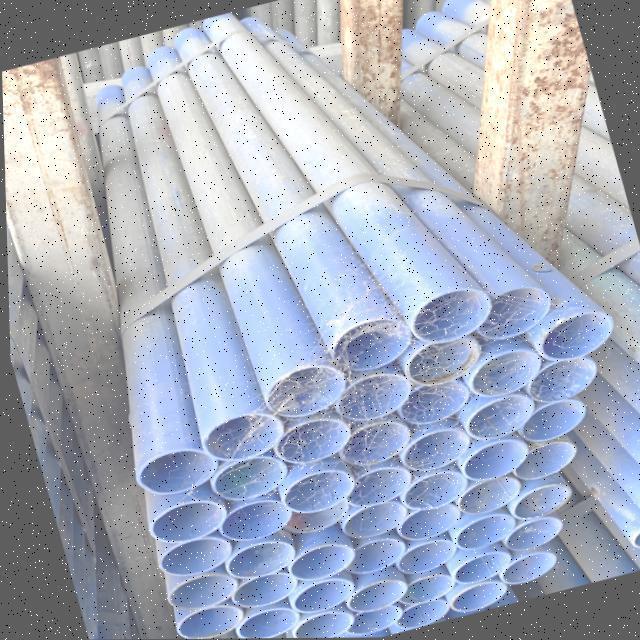pipe: (326, 318, 411, 377), (260, 365, 340, 420), (407, 290, 487, 345), (332, 416, 408, 472), (501, 394, 584, 445), (469, 287, 547, 341), (198, 412, 277, 464), (397, 418, 467, 476), (516, 354, 594, 406), (384, 376, 468, 424), (333, 371, 411, 422), (401, 337, 477, 389), (207, 455, 283, 506), (534, 310, 608, 362), (131, 448, 214, 494), (466, 347, 538, 400), (214, 492, 290, 542), (141, 498, 222, 544), (149, 533, 230, 579), (271, 416, 345, 466), (500, 433, 575, 482), (458, 393, 532, 442), (453, 436, 524, 485), (339, 457, 408, 507), (278, 466, 349, 514), (328, 534, 404, 577), (219, 570, 302, 609), (335, 498, 407, 542), (394, 465, 464, 510), (216, 538, 292, 579), (448, 474, 518, 518), (495, 513, 560, 560), (387, 503, 463, 541), (503, 477, 566, 522), (389, 532, 452, 576), (164, 576, 228, 618), (449, 510, 512, 552), (168, 601, 237, 639), (334, 575, 403, 613), (283, 542, 348, 582), (391, 570, 449, 611), (229, 603, 293, 639), (277, 500, 349, 532), (447, 547, 508, 584), (287, 577, 346, 615), (441, 579, 503, 615), (493, 550, 552, 587), (284, 610, 346, 638), (337, 603, 392, 633), (391, 600, 440, 628), (626, 526, 640, 550)
